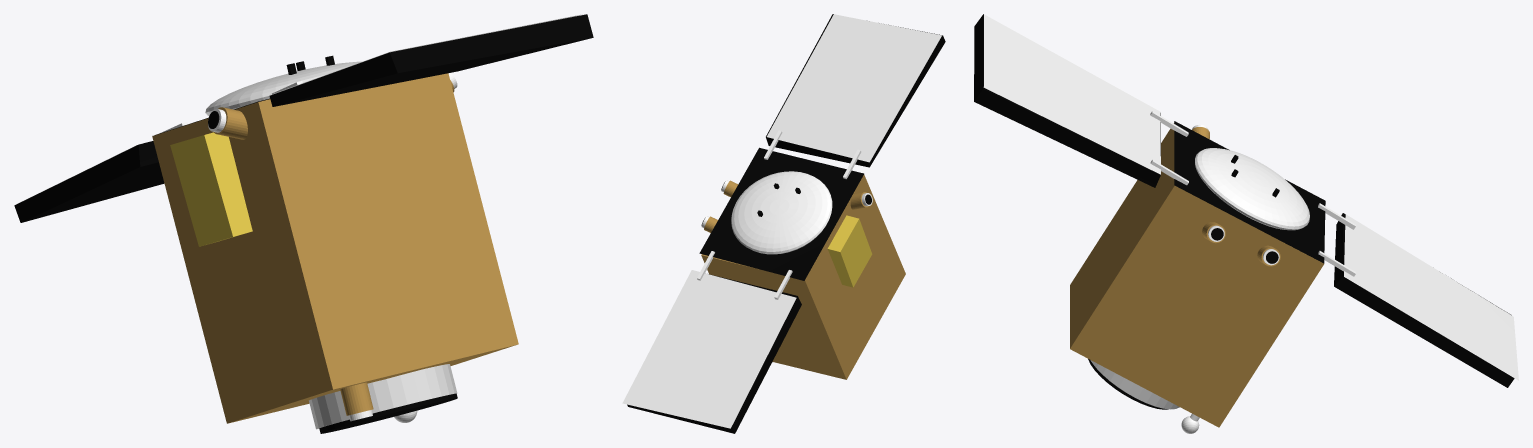
File: theos-2.glb
The picture shows the model from 3 angles, left to right: view 1: azimuth 30°, elevation 25°; view 2: azimuth 150°, elevation 25°; view 3: azimuth 270°, elevation 25°; orthographic projection. The views are drawn at different scales.
Size of the model in its own units: 2.74 by 5.32 by 7.22.
